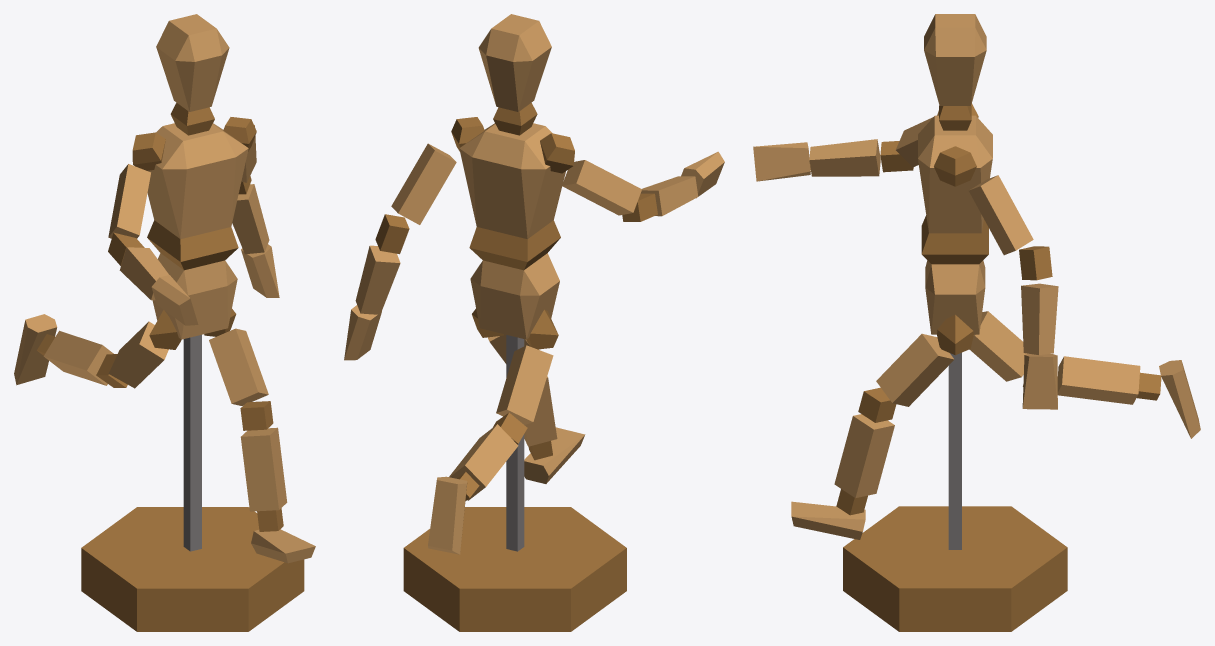
Rendered from furniture_dummy-small-running.fbx.
3 renders of one model, left to right at view 1: azimuth 30°, elevation 25°; view 2: azimuth 150°, elevation 25°; view 3: azimuth 270°, elevation 25°, orthographic.
Visible parts, largest first — view 1: furniture_dummy_small_running; view 2: furniture_dummy_small_running; view 3: furniture_dummy_small_running.
Part boxes in pixels (x1,y1,x2,y2): furniture_dummy_small_running: (14,14,315,631); furniture_dummy_small_running: (344,14,724,631); furniture_dummy_small_running: (753,14,1200,631).
Bounding box in the file's own units: 86.92 × 200 × 142.
